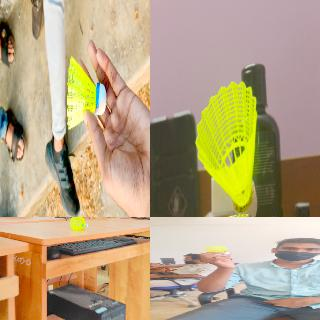shuttlecock: (195, 81, 257, 216), (66, 55, 106, 130), (68, 217, 88, 231), (203, 246, 229, 254)
